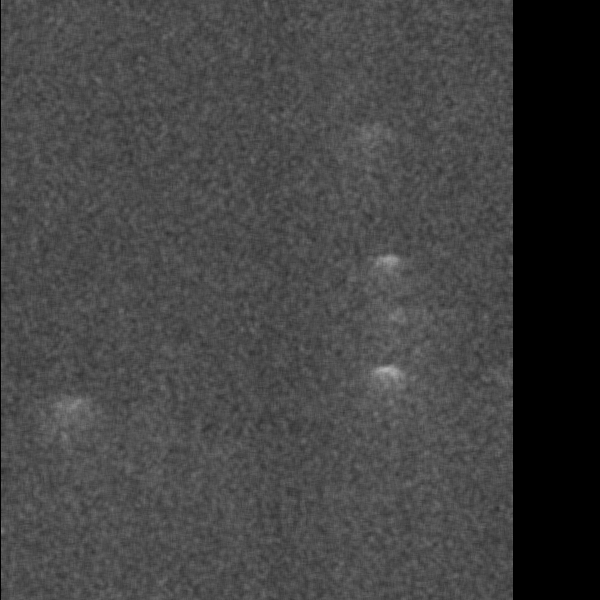spark: (21, 321, 64, 398), (183, 3, 229, 62), (409, 81, 443, 130), (189, 527, 216, 578)
